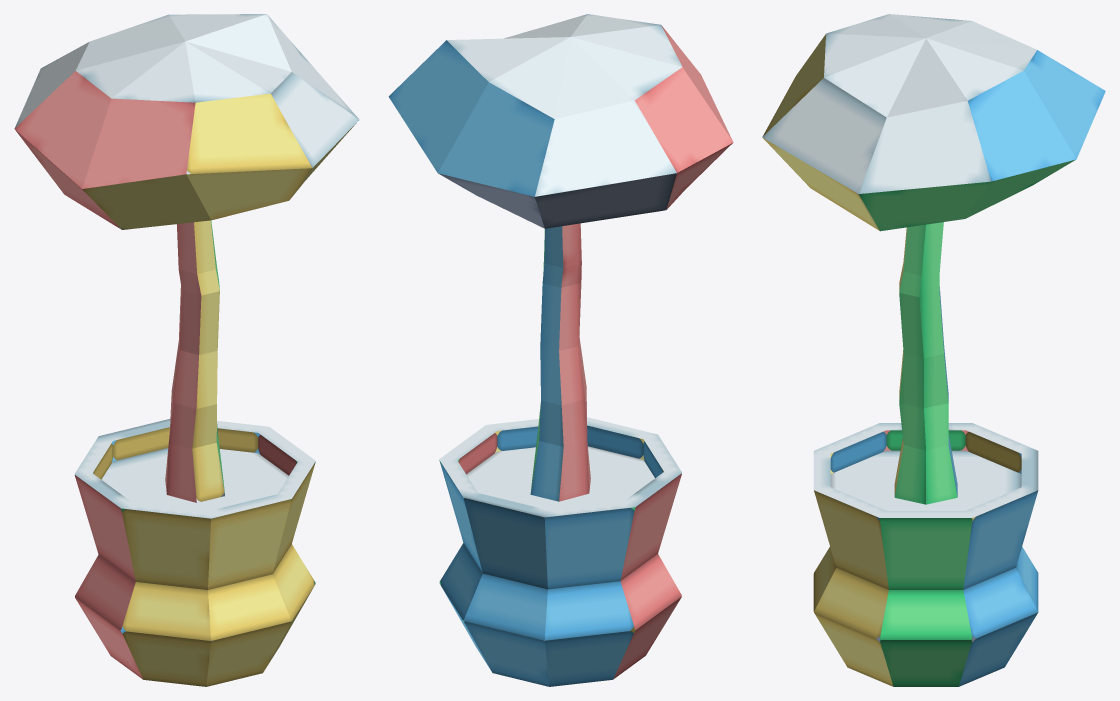
The model's file is potted_plant_2.obj.
The picture shows the model from 3 angles, left to right: view 1: azimuth 30°, elevation 25°; view 2: azimuth 150°, elevation 25°; view 3: azimuth 270°, elevation 25°; orthographic projection.
Visible parts, largest first — view 1: sphere, cylinder, stem; view 2: sphere, cylinder, stem; view 3: sphere, cylinder, stem.
Boxes of the visible parts, x1,y1,x2,y2 form: sphere: (14,14,359,229); cylinder: (74,419,315,686); stem: (165,170,224,502); sphere: (388,14,733,228); cylinder: (439,417,681,686); stem: (530,223,590,501); sphere: (762,14,1105,231); cylinder: (813,423,1038,686); stem: (894,222,957,504).
Size of the model in its own units: 0.9187 by 1.88 by 0.9563.
1 material, 1 textured.
